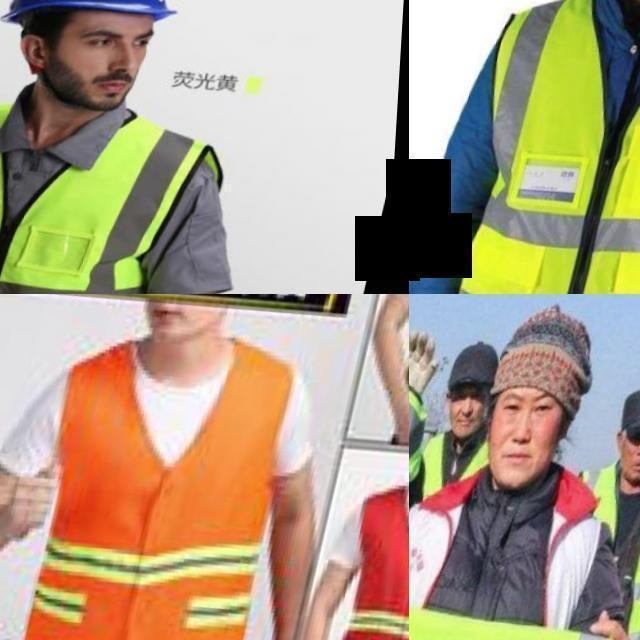vest: (9, 314, 311, 640), (422, 0, 640, 294), (0, 89, 192, 294), (315, 477, 409, 640), (566, 470, 640, 640)
